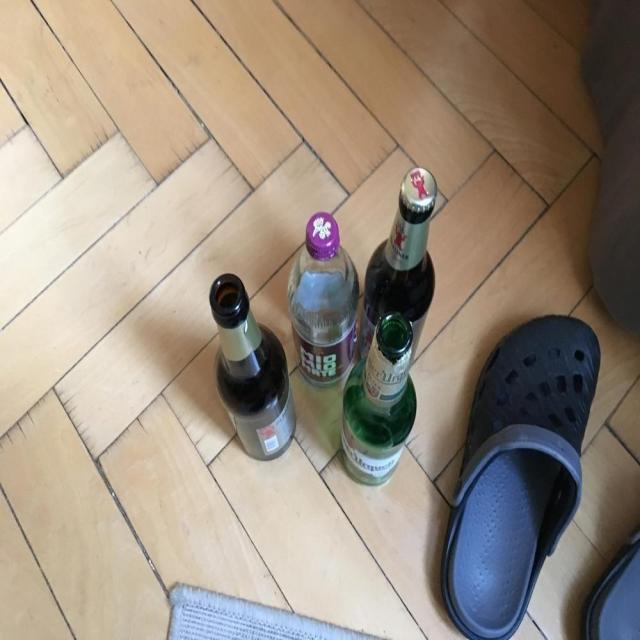bottle-glass: (208, 272, 298, 463), (361, 166, 438, 386), (287, 210, 362, 392), (340, 312, 417, 488)
